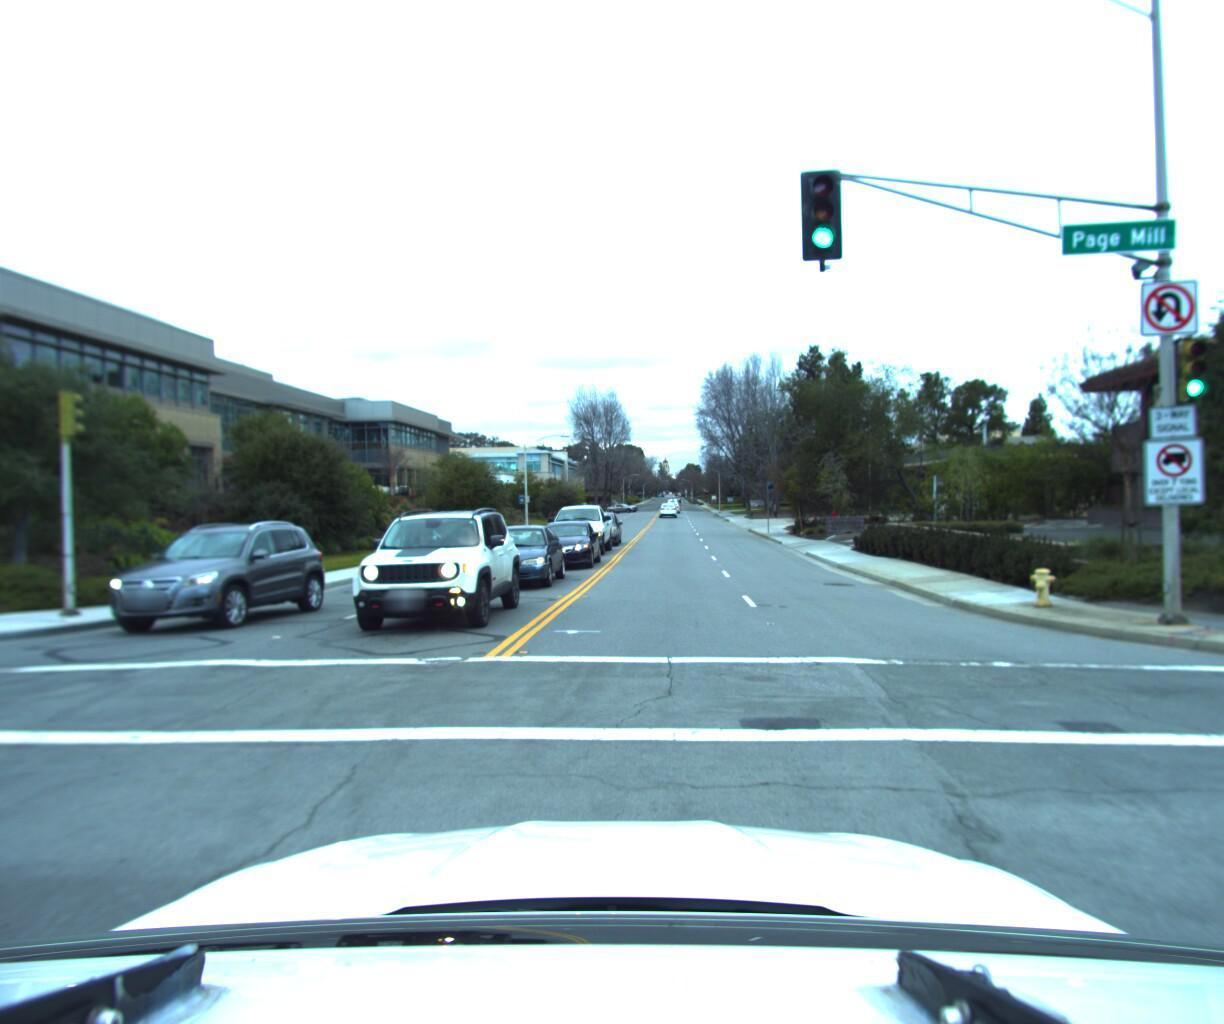car: (74, 524, 332, 647), (327, 506, 529, 648), (458, 521, 572, 599), (523, 517, 604, 575), (542, 502, 614, 561), (578, 509, 620, 550), (659, 499, 678, 513)
